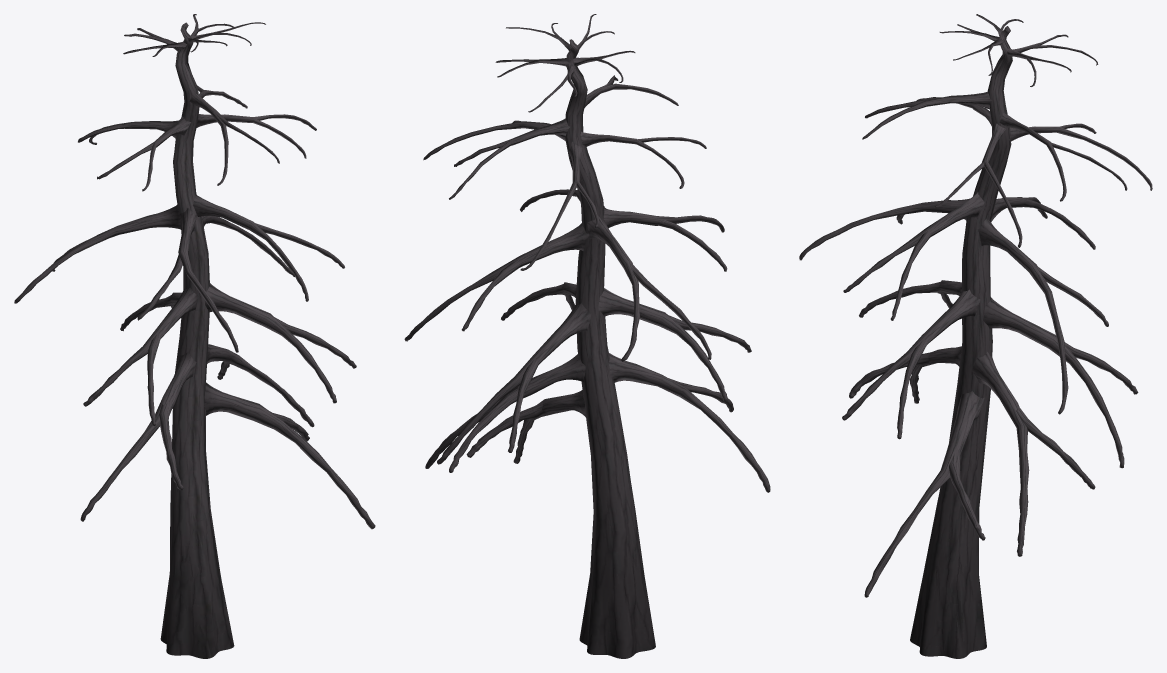
Rendered from n_dead.glb.
3 renders of one model, left to right at view 1: azimuth 30°, elevation 25°; view 2: azimuth 150°, elevation 25°; view 3: azimuth 270°, elevation 25°, orthographic. The views are drawn at different scales.
Parts seen in each view (by area): view 1: DeadTree_5; view 2: DeadTree_5; view 3: DeadTree_5.
Part boxes in pixels (<box>): DeadTree_5: <box>14,14,375,658</box>; DeadTree_5: <box>404,14,770,658</box>; DeadTree_5: <box>799,14,1152,658</box>.
Bounding box in the file's own units: 8.36 × 16.44 × 8.41.
1 material, 1 textured.
